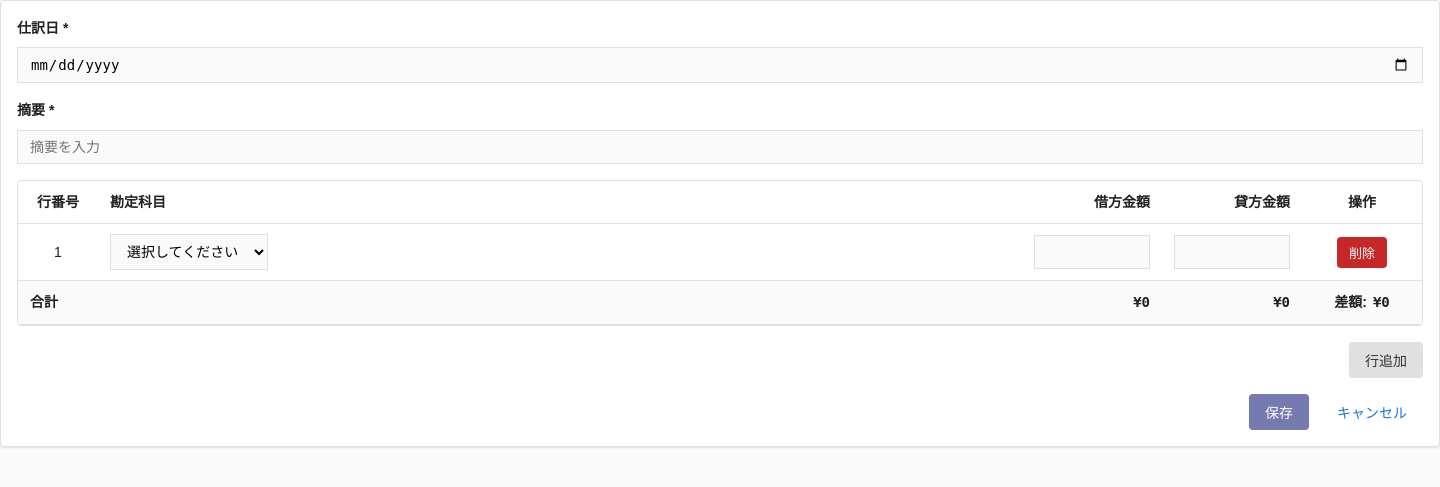
JournalEntryForm › clears the opposite amount when entering debit or credit
This screenshot has width=1440, height=487.
Type "1000" into the number field with test id "journal-entry-debit-0" at (1092, 252), box [1034, 235, 1150, 269]
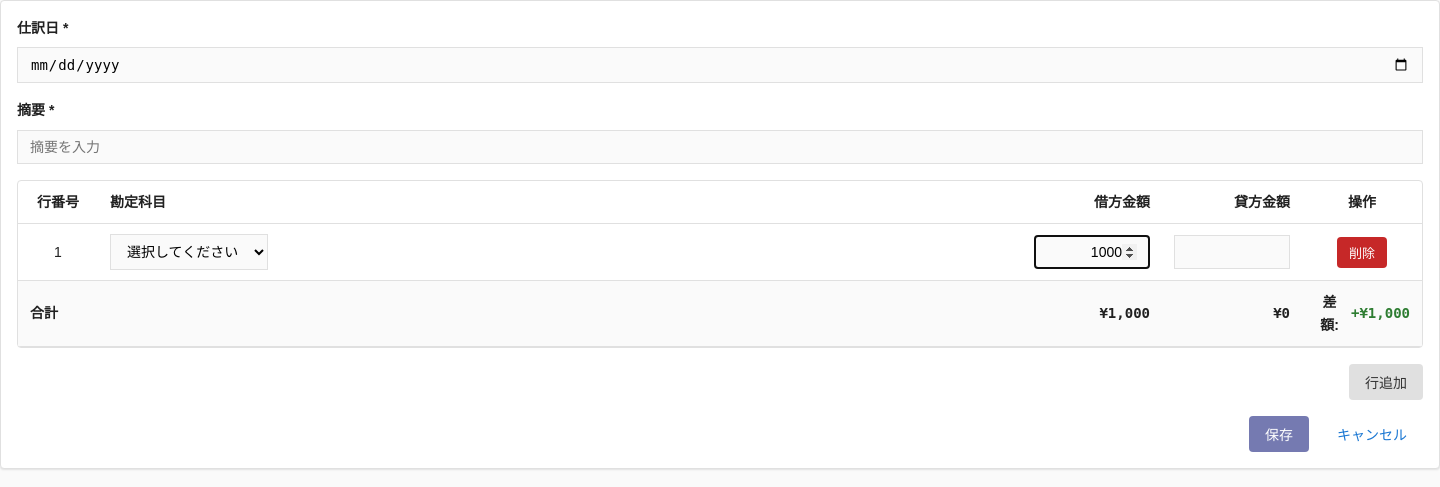
Type "2000" into the number field with test id "journal-entry-credit-0" at (1232, 252), box [1174, 235, 1290, 269]
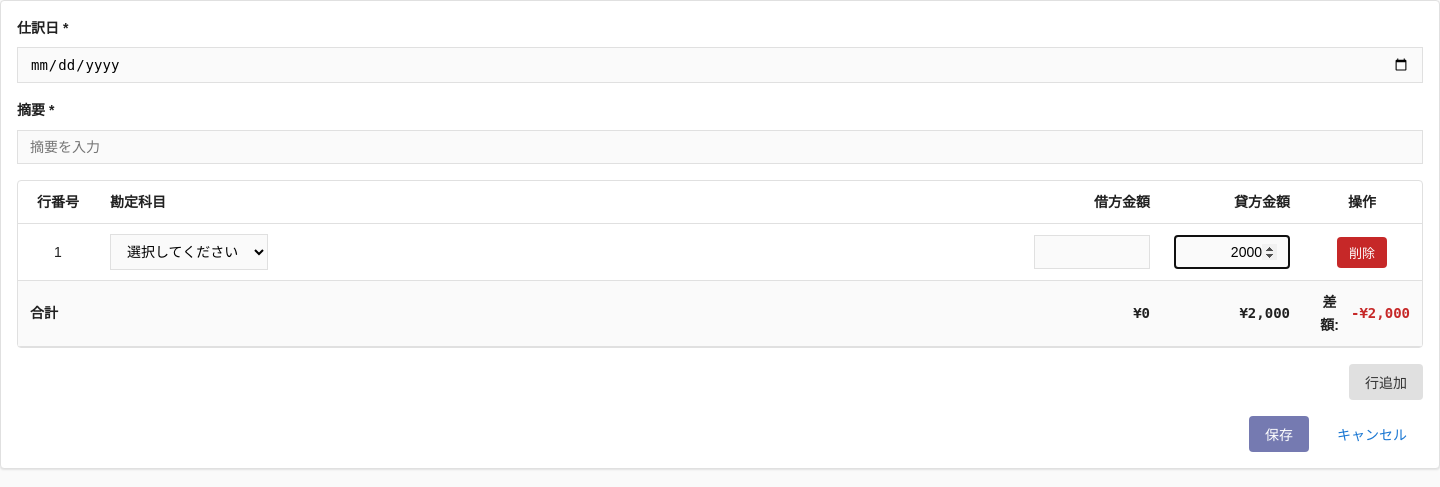
Check: the number field with test id "journal-entry-debit-0" is not empty, box [1034, 235, 1150, 269]
